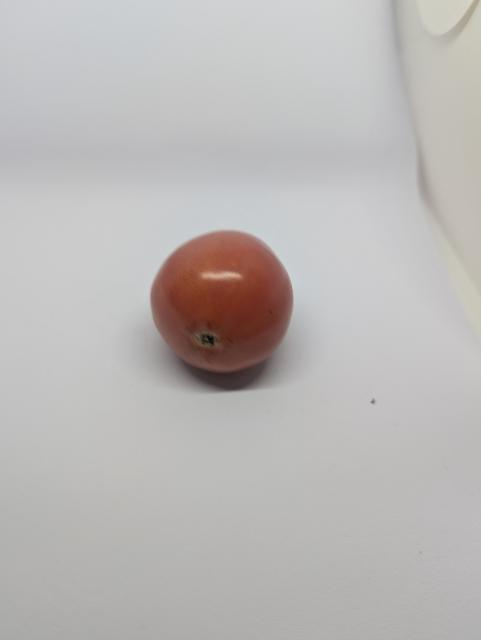red: (145, 226, 302, 383)
